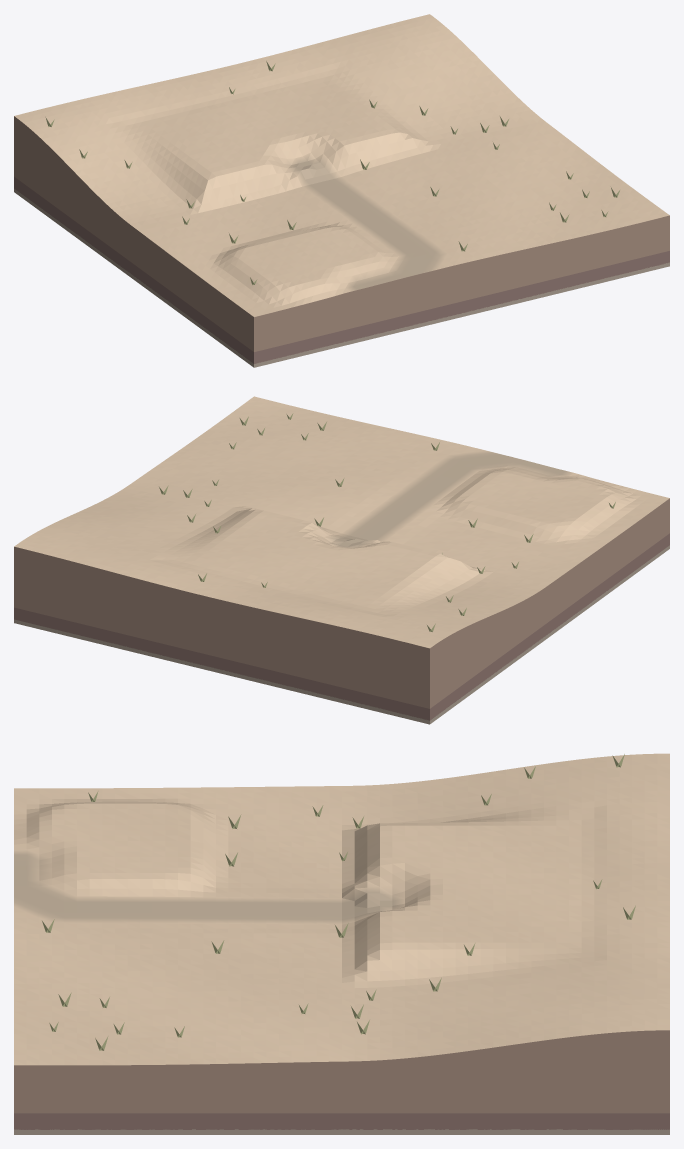
3 renders of one model, top to bottom at view 1: azimuth 30°, elevation 25°; view 2: azimuth 150°, elevation 25°; view 3: azimuth 270°, elevation 25°, orthographic. The views are drawn at different scales.
Parts seen in each view (by area): view 1: proc_ground, proc_skirt, proc_grass; view 2: proc_ground, proc_skirt, proc_grass; view 3: proc_ground, proc_skirt, proc_grass.
Part boxes in pixels (box(x1,y1,x2,y2)): proc_ground: box(14, 14, 669, 316); proc_skirt: box(14, 116, 669, 367); proc_grass: box(45, 61, 619, 285); proc_ground: box(14, 396, 669, 648); proc_skirt: box(14, 498, 669, 724); proc_grass: box(159, 413, 615, 631); proc_ground: box(14, 753, 669, 1065); proc_skirt: box(14, 1030, 669, 1134); proc_grass: box(42, 754, 635, 1050).
Size of the model in its own units: 8 by 1.54 by 8.
